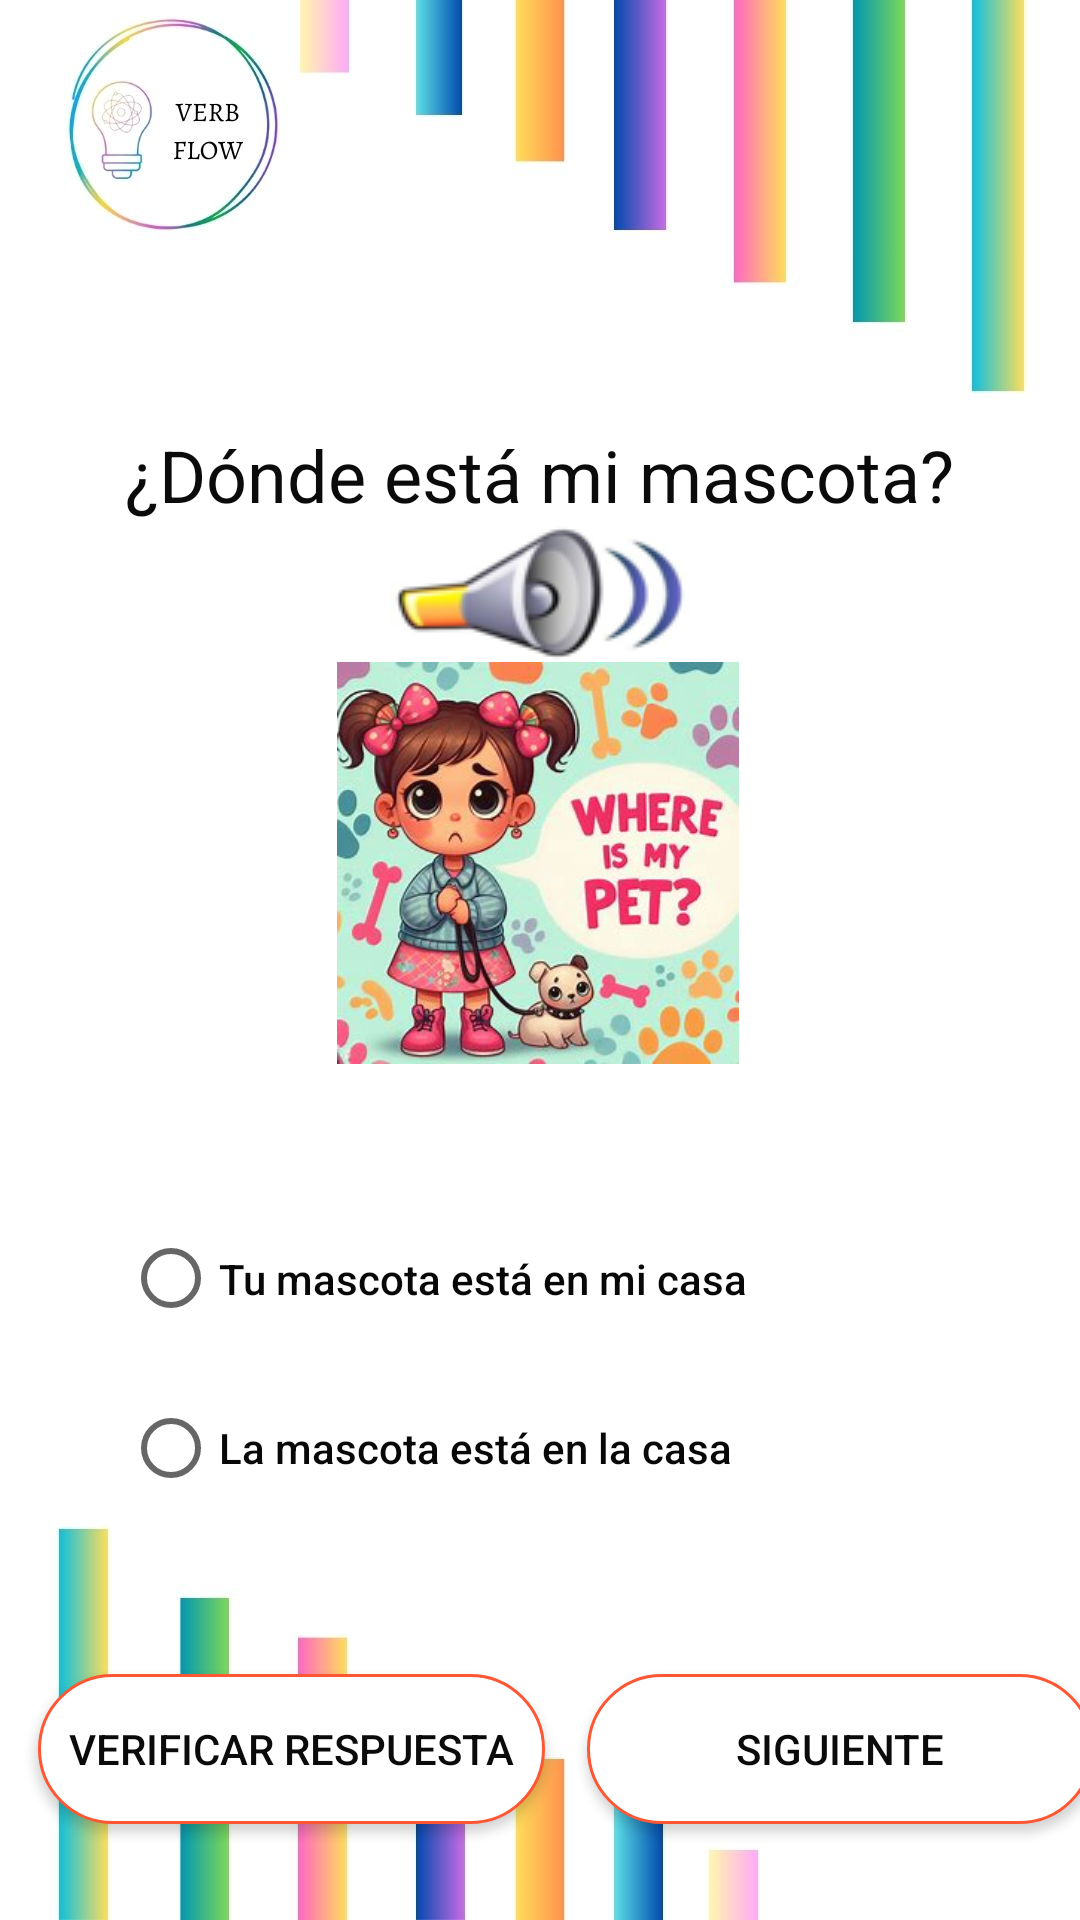

Icon bounding boxes for this 1080 × 1920 phone screenshot, format {"left": x1, "top": y1, "right": x2, "bottom": y2}:
altavoz: {"left": 397, "top": 529, "right": 682, "bottom": 657}
